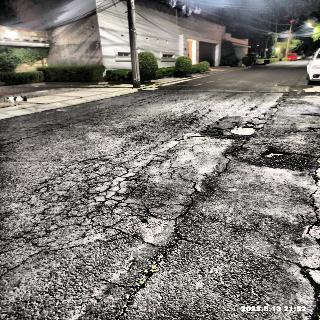alligator-crack: (0, 149, 188, 287), (178, 105, 225, 142)
crack: (272, 256, 320, 320), (215, 138, 249, 177), (305, 163, 320, 234), (259, 104, 278, 128)
pothole: (228, 124, 260, 137), (264, 148, 291, 160)
